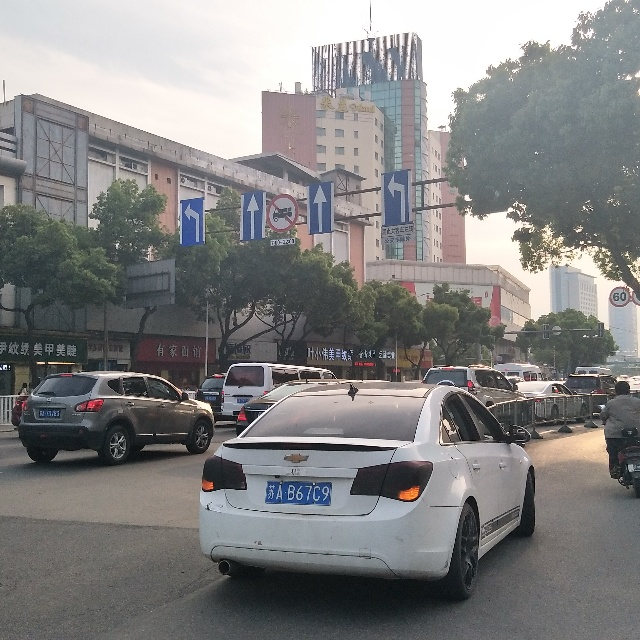left: (385, 172, 409, 227), (180, 197, 203, 242)
straight: (240, 191, 262, 238), (311, 182, 332, 230)
